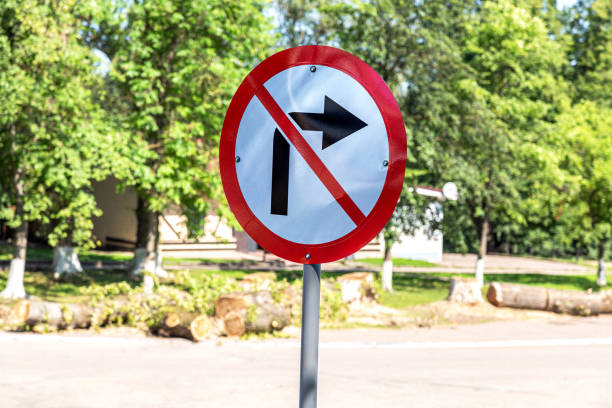saga_donulmez: (216, 42, 411, 272)
